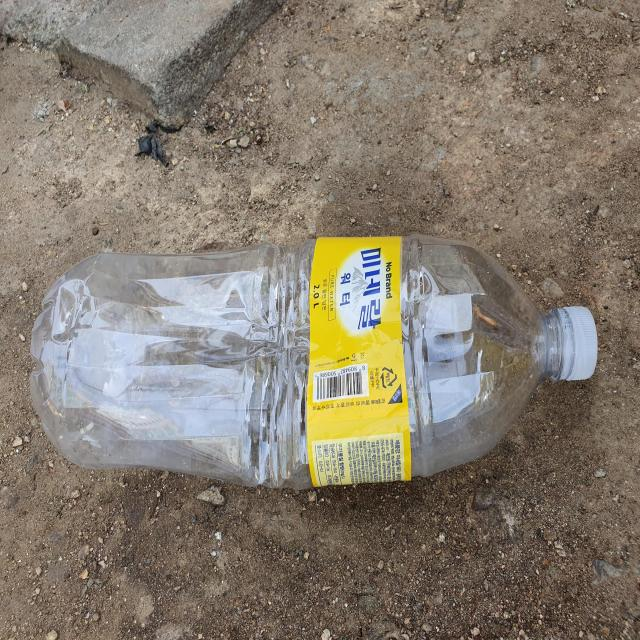plastic: (30, 236, 598, 489)
